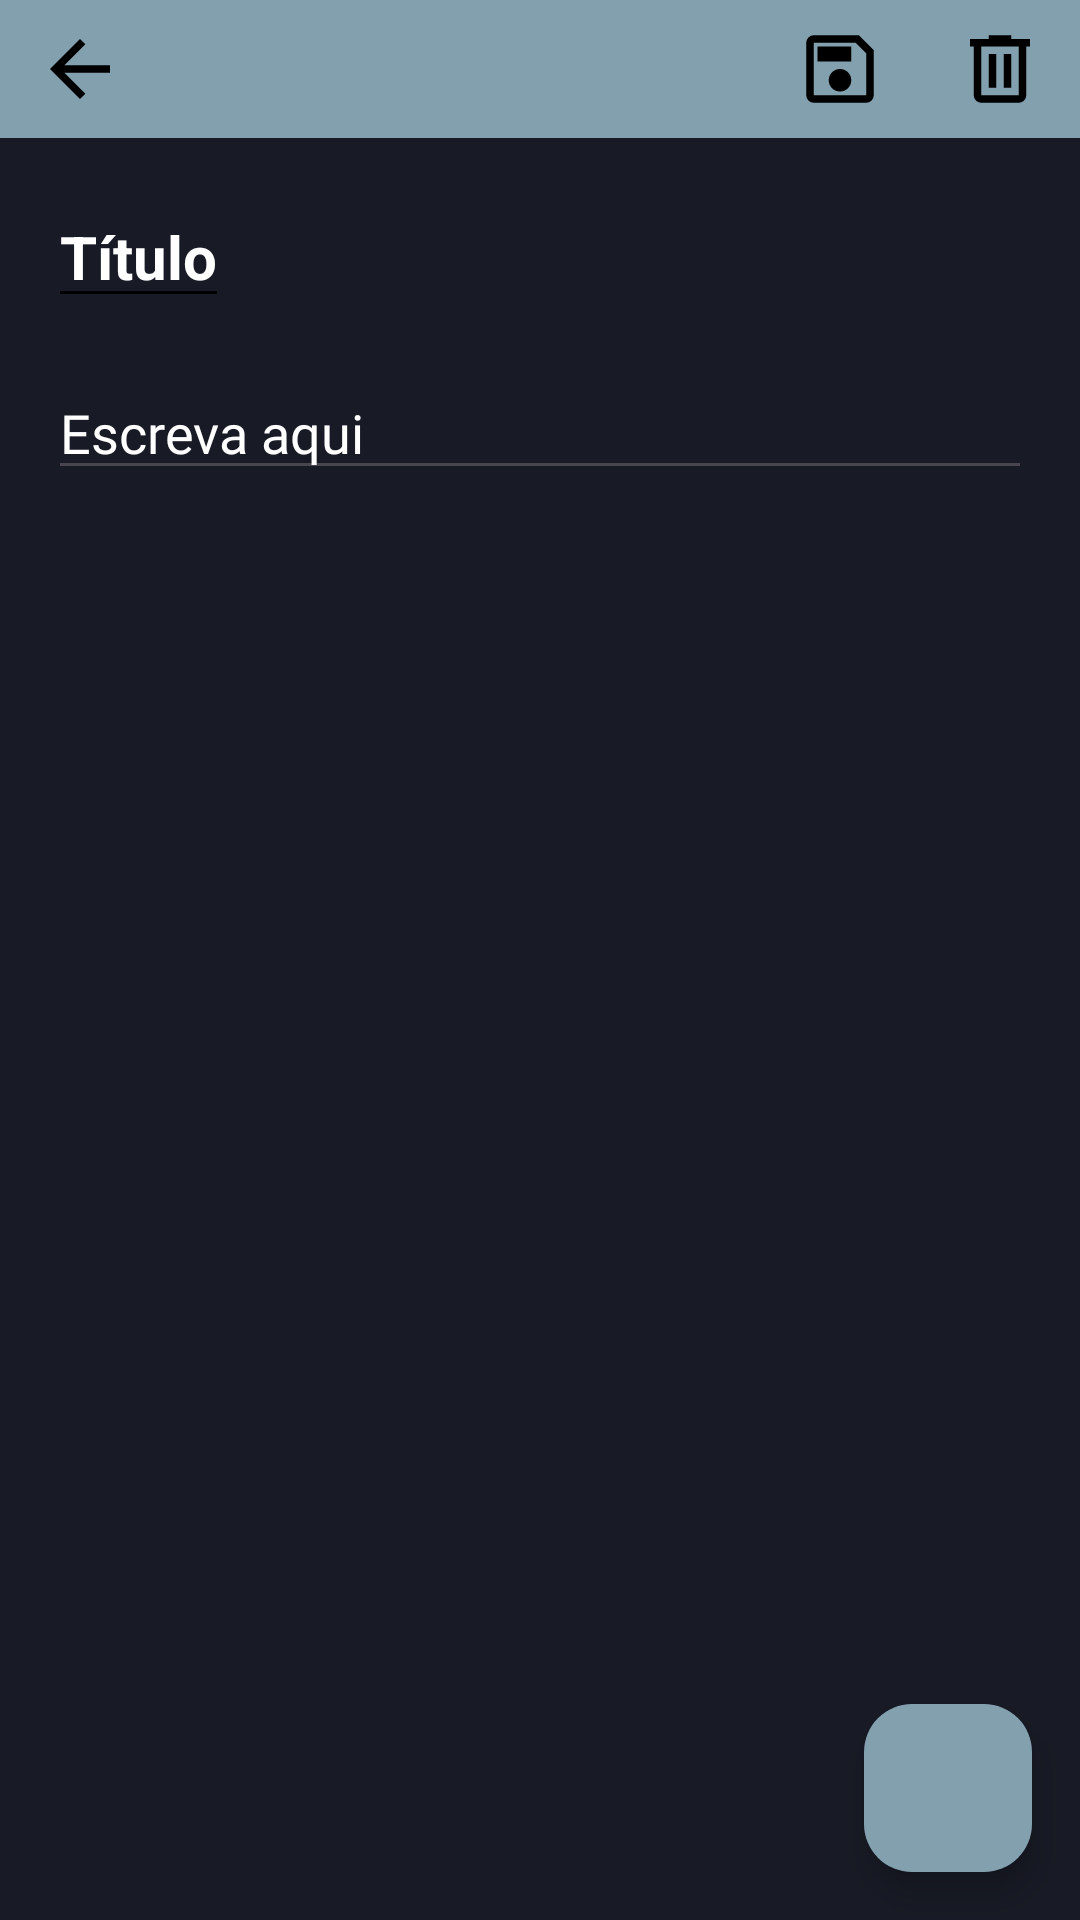

Point at icon controls on the screen. Image size 1080px×1920px, points as [x,y].
delete: [1000,69]
save: [840,69]
seta: [80,69]
